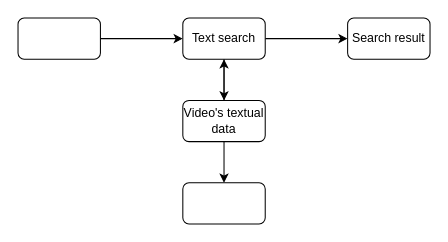
Some shapes in this 448 by 242 pixel diagram are drawn without their labels. The centre of each missing label's shape, as x and y in pixels:
Inverted index: the point at 223,203
Text query: the point at 58,38
